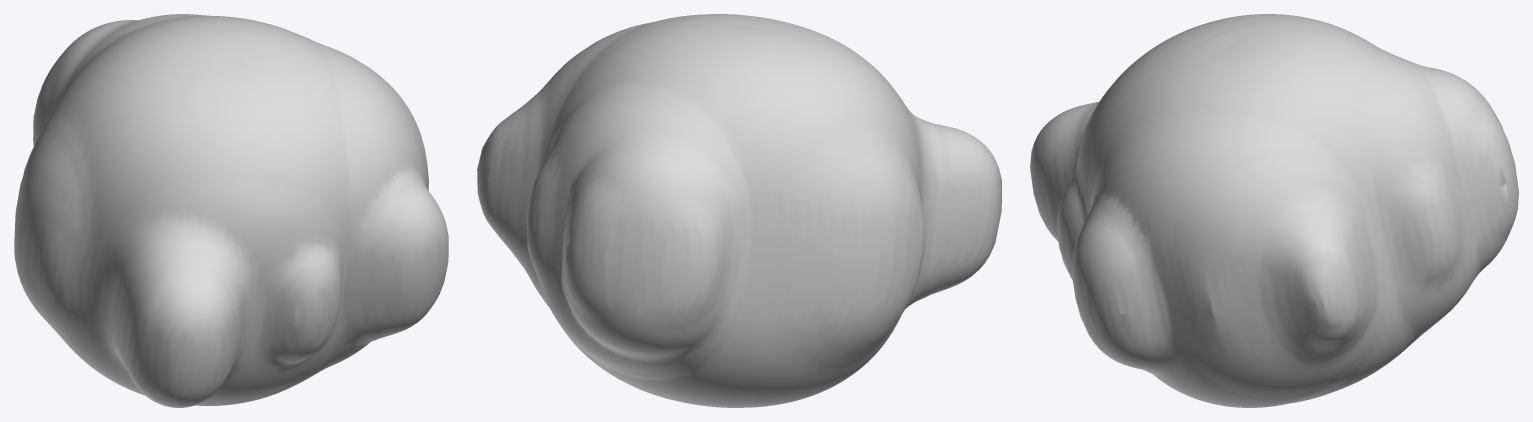
File: Meteor4.fbx
3 renders of one model, left to right at view 1: azimuth 30°, elevation 25°; view 2: azimuth 150°, elevation 25°; view 3: azimuth 270°, elevation 25°, orthographic. The views are drawn at different scales.
Visible parts, largest first — view 1: root; view 2: root; view 3: root.
Boxes of the visible parts, x1,y1,x2,y2 form: root: (14,14,448,407); root: (477,14,1001,407); root: (1030,14,1518,407).
Bounding box in the file's own units: 0.3459 × 0.2869 × 0.3692.
Materials: 1 (1 with a texture image).
